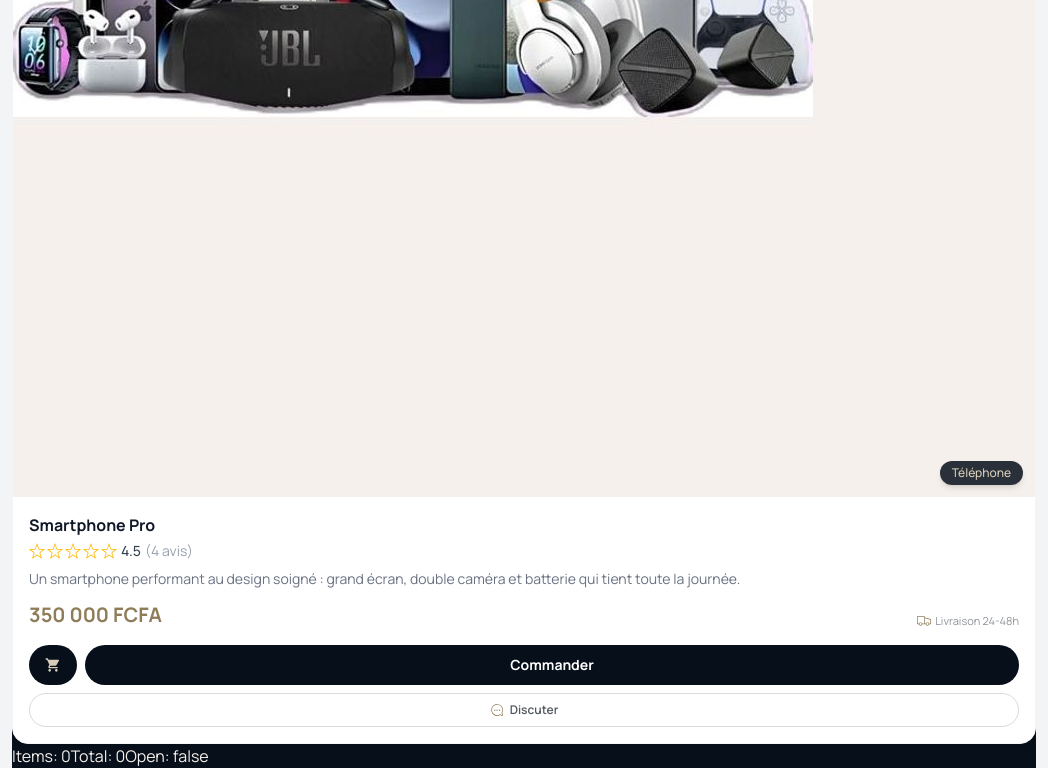
Scenario: ProductCard › ajoute le produit au panier via l'icône panier
(page scrolled)
Expected: the text "Items: 0" is shown, [12, 745, 71, 767]
What coordinates should you click on to do the following:
click the button named "Ajouter Smartphone Pro au panier"
I would click on:
 (53, 665)
Its box is [29, 645, 77, 685].
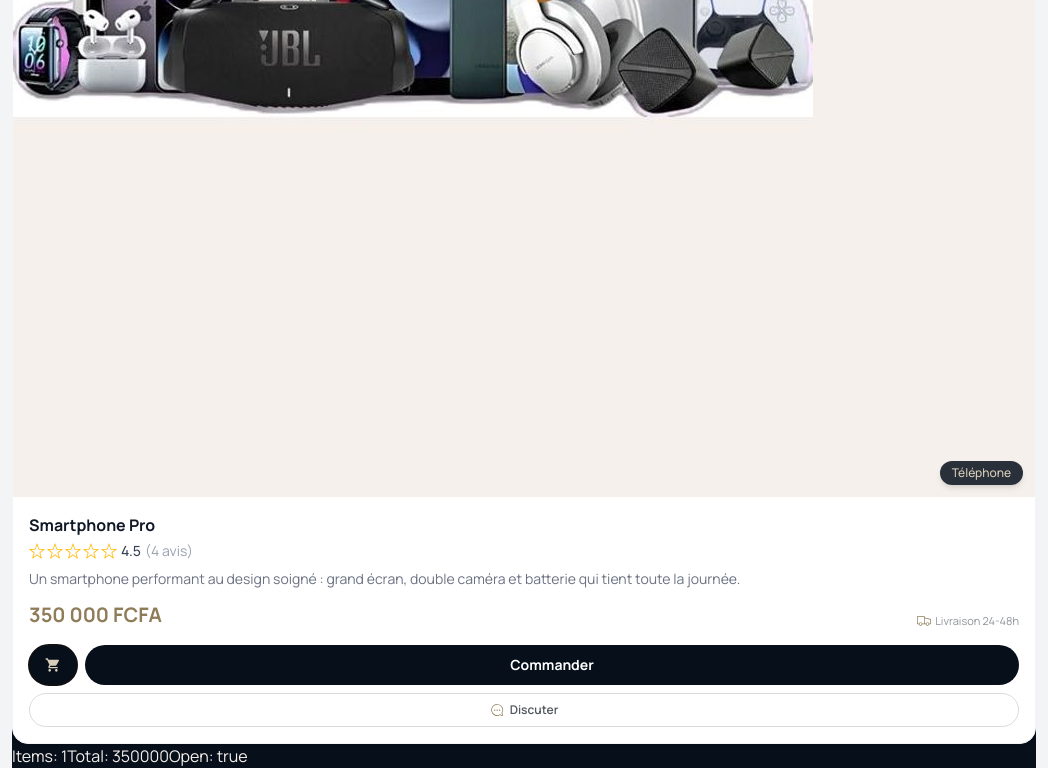
Result: the text "Items: 1" is shown at [12, 745, 67, 767]
Result: the text "Open: true" is shown at [169, 745, 248, 767]
